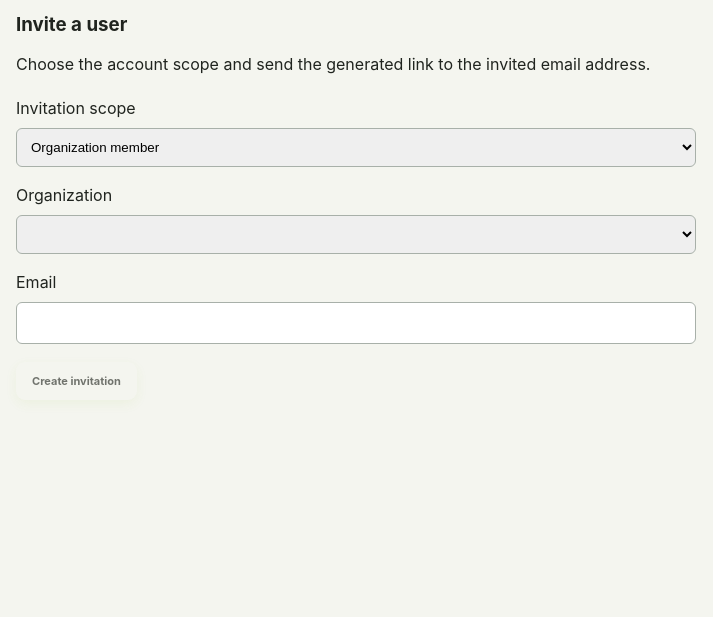
Test: prevents creating a system invitation when no system provider is configured
Step 1. Select "System user" in the dropdown named "scope" → [356, 148], box [16,128,696,167]
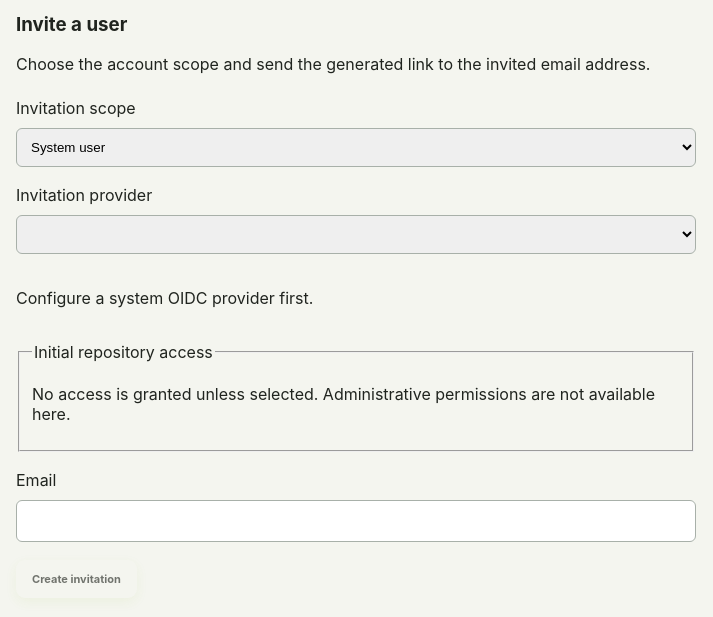
Expected: the button "Create invitation" is disabled, [16,560,137,598]
Now the text "Configure a system OIDC provider first." is shown, box [16,288,313,308]
